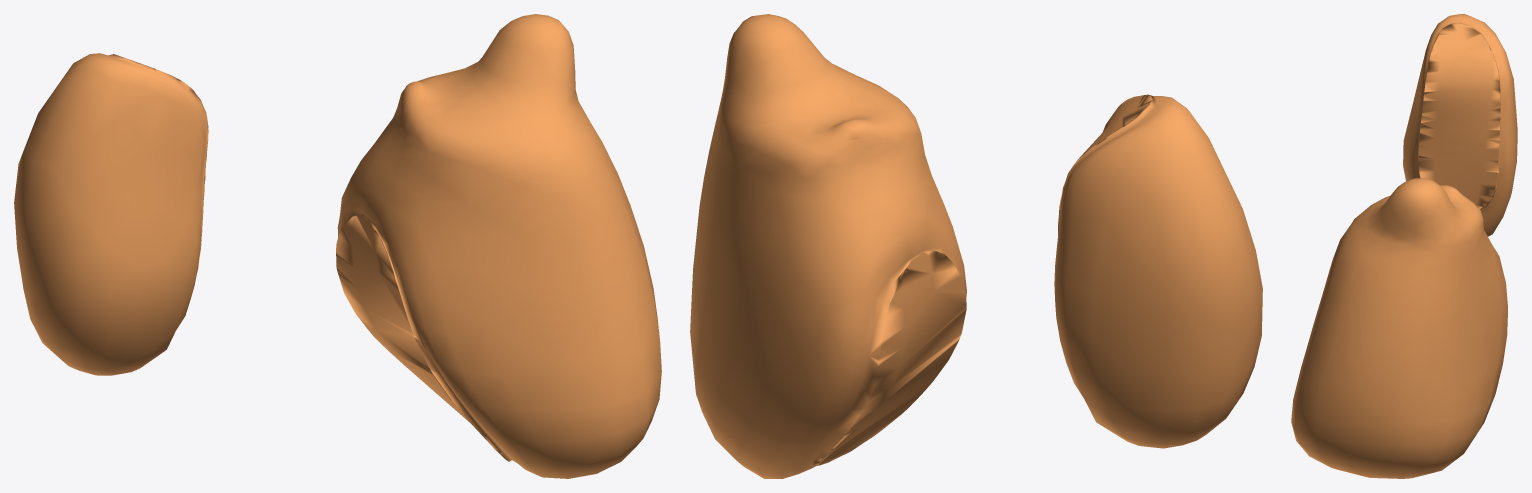
Rendered from VentralDorsalPancreas_Puzzle.fbx.
3 renders of one model, left to right at view 1: azimuth 30°, elevation 25°; view 2: azimuth 150°, elevation 25°; view 3: azimuth 270°, elevation 25°, orthographic. The views are drawn at different scales.
Parts seen in each view (by area): view 1: Ventral___dorsal_pancreas; view 2: Ventral___dorsal_pancreas; view 3: Ventral___dorsal_pancreas.
Boxes of the visible parts, <box> form: Ventral___dorsal_pancreas: <box>14,14,661,478</box>; Ventral___dorsal_pancreas: <box>690,14,1262,478</box>; Ventral___dorsal_pancreas: <box>1291,14,1517,478</box>.
Size of the model in its own units: 4.13 by 3.26 by 2.06.
